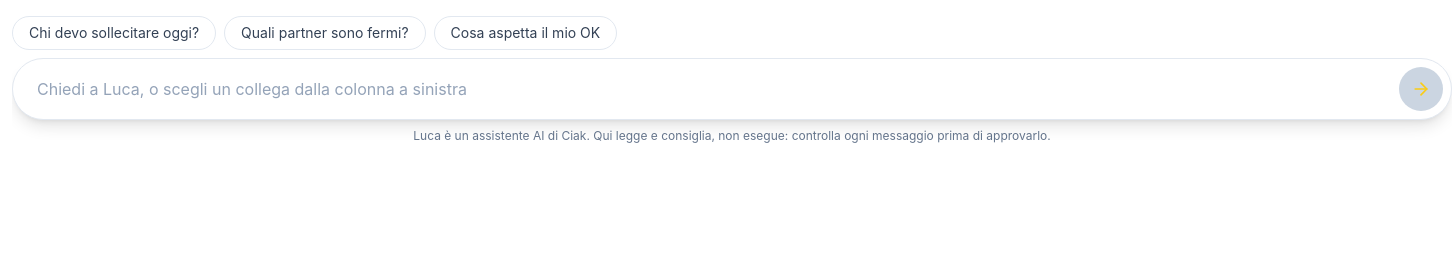
it: invia la domanda alla chat di Luca e mostra la risposta
Type "Chi sollecito?" into the field labelled "Chiedi a Luca" at coordinates (712, 89), box [37,77,1387,101]
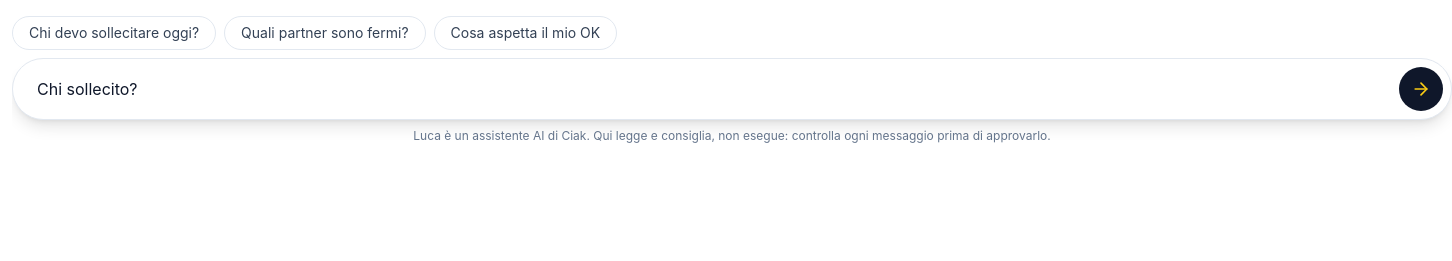
Click the button named "Invia a Luca" at coordinates (1421, 89), box [1399,67,1443,111]
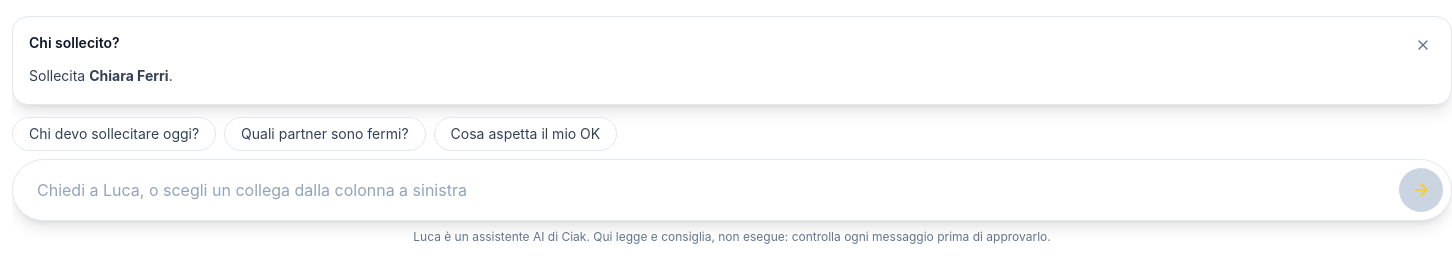
Expected: the text "Chiara Ferri" is shown, [89,67,169,84]
